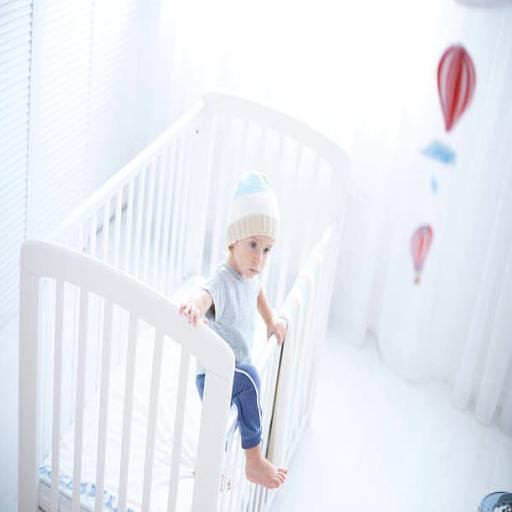baby: (180, 172, 287, 488)
crib: (19, 94, 349, 511)
